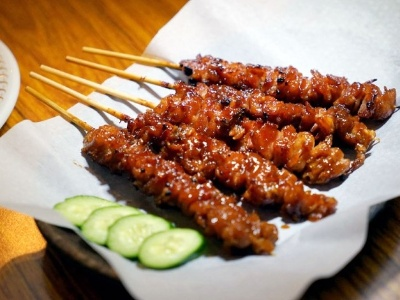sate: (28, 44, 386, 242)
